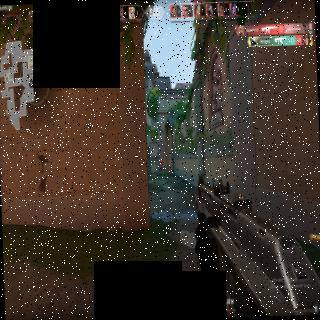ENEMY-BODY: (159, 158, 163, 174)
ENEMY-HEAD: (160, 158, 162, 160)
